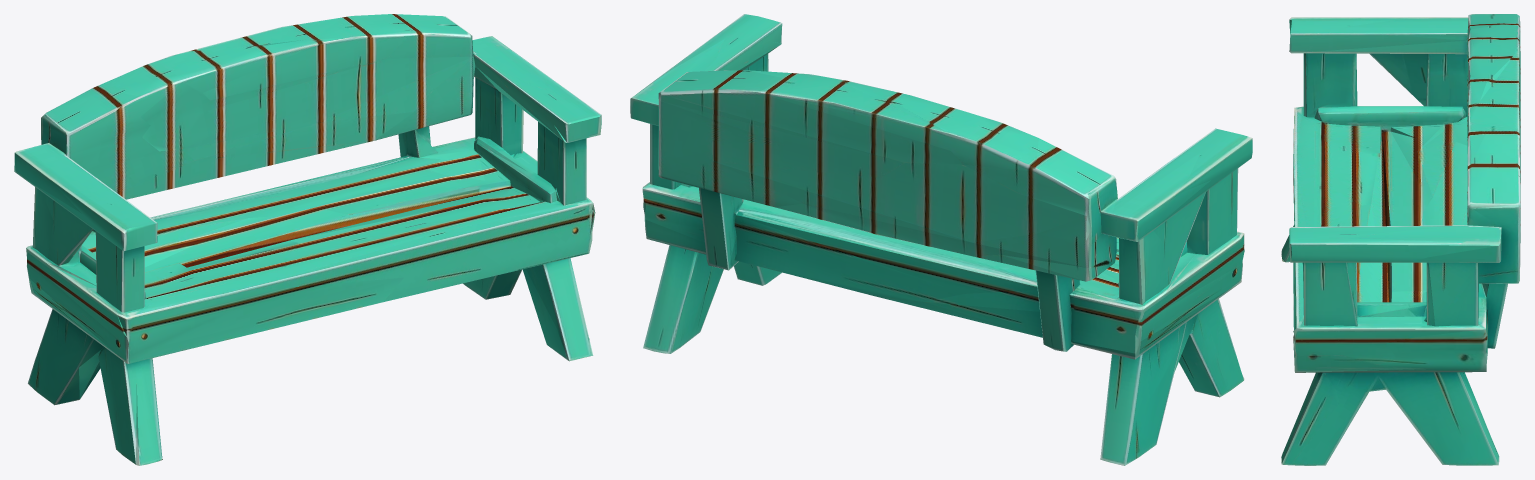
The model's file is bench-wood.glb.
3 renders of one model, left to right at view 1: azimuth 30°, elevation 25°; view 2: azimuth 150°, elevation 25°; view 3: azimuth 270°, elevation 25°, orthographic. The views are drawn at different scales.
Size of the model in its own units: 1.9 by 1.08 by 0.8446.
Materials: 1 (1 with a texture image).
